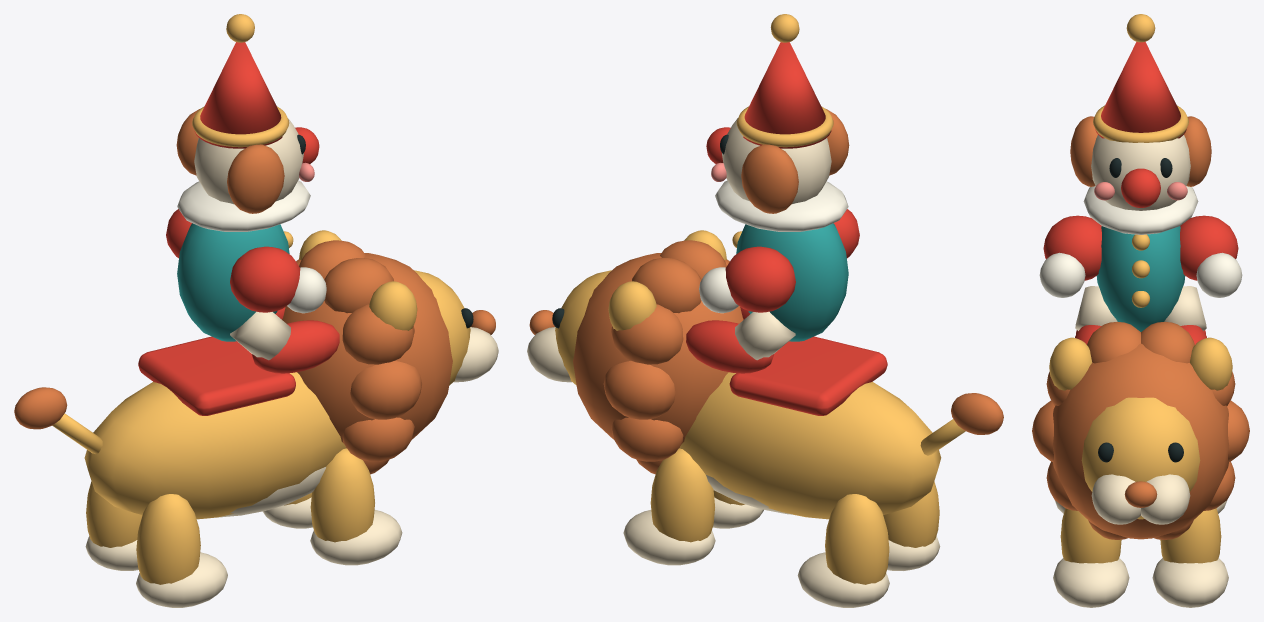
File: lion.glb
3 renders of one model, left to right at view 1: azimuth 30°, elevation 25°; view 2: azimuth 150°, elevation 25°; view 3: azimuth 270°, elevation 25°, orthographic.
Parts seen in each view (by area): view 1: Body, Mane, Saddle, Jacket, Leg, Pointy hat, Leg.002, Sleeve, Ruff, Mane curl.005, Face, Hair tuft (+22 smaller); view 2: Body, Mane, Saddle, Jacket, Leg.001, Pointy hat, Leg.003, Sleeve.001, Ruff, Mane curl, Face, Hair tuft.001 (+21 smaller); view 3: Mane, Lion face, Jacket, Pointy hat, Face, Paw.002, Paw.003, Ruff, Sleeve, Sleeve.001, Leg.002, Leg.003 (+24 smaller).
Boxes of the visible parts, bbox=[...] form: Body: bbox=[84, 372, 345, 519]; Mane: bbox=[282, 253, 452, 448]; Saddle: bbox=[138, 336, 295, 415]; Jacket: bbox=[177, 223, 289, 341]; Leg: bbox=[136, 494, 200, 584]; Pointy hat: bbox=[194, 42, 282, 148]; Leg.002: bbox=[310, 448, 374, 542]; Sleeve: bbox=[230, 246, 300, 312]; Ruff: bbox=[177, 180, 310, 231]; Mane curl.005: bbox=[350, 361, 421, 419]; Face: bbox=[194, 118, 303, 204]; Hair tuft: bbox=[227, 144, 284, 213]; Body: bbox=[679, 372, 941, 519]; Mane: bbox=[573, 253, 743, 448]; Saddle: bbox=[729, 336, 887, 415]; Jacket: bbox=[736, 223, 848, 341]; Leg.001: bbox=[825, 494, 889, 584]; Pointy hat: bbox=[743, 42, 831, 148]; Leg.003: bbox=[650, 448, 714, 542]; Sleeve.001: bbox=[725, 246, 795, 312]; Ruff: bbox=[715, 180, 848, 231]; Mane curl: bbox=[603, 361, 675, 419]; Face: bbox=[722, 118, 831, 203]; Hair tuft.001: bbox=[741, 144, 798, 213]; Mane: bbox=[1052, 343, 1229, 539]; Lion face: bbox=[1081, 397, 1200, 519]; Jacket: bbox=[1096, 226, 1185, 331]; Pointy hat: bbox=[1095, 41, 1186, 138]; Face: bbox=[1091, 135, 1190, 210]; Paw.002: bbox=[1053, 558, 1129, 607]; Paw.003: bbox=[1152, 558, 1228, 607]; Ruff: bbox=[1083, 186, 1198, 234]; Sleeve: bbox=[1043, 215, 1101, 280]; Sleeve.001: bbox=[1180, 215, 1238, 280]; Leg.002: bbox=[1060, 508, 1121, 563]; Leg.003: bbox=[1160, 508, 1221, 563].
Bounding box in the file's own units: 2.83 × 3.12 × 1.14.
